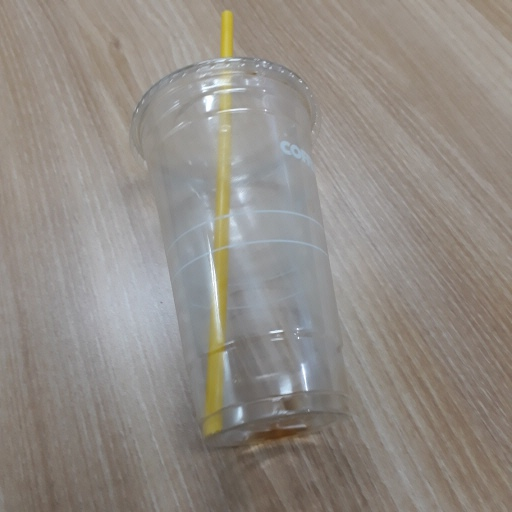Plastic_2: (132, 9, 347, 449)
